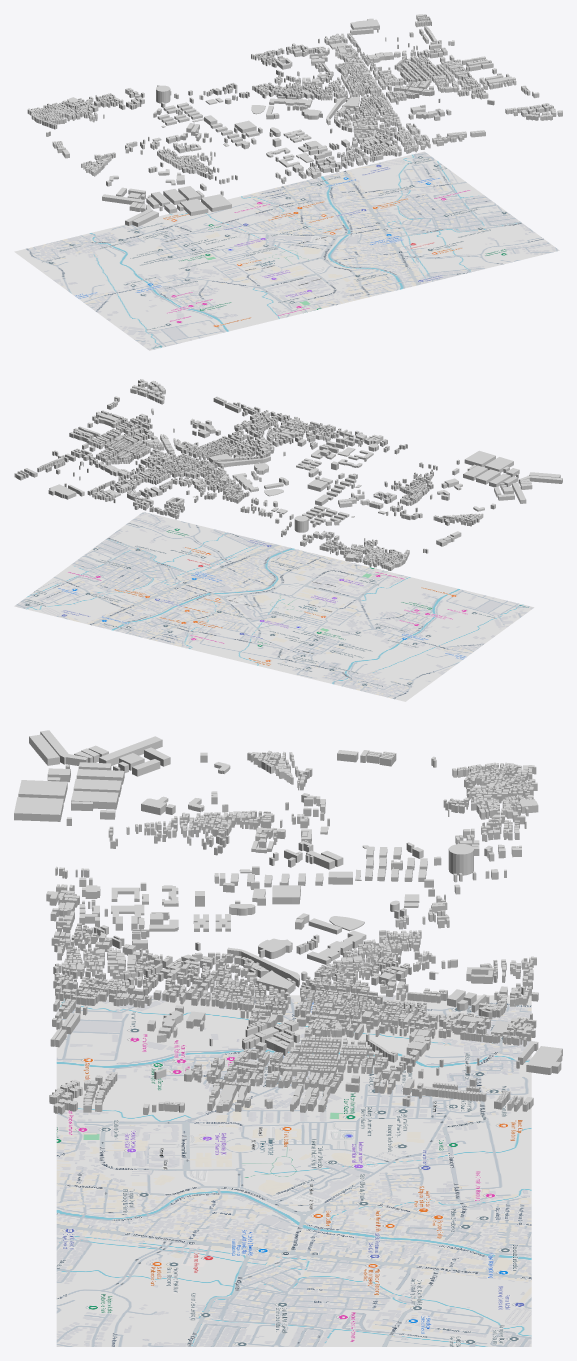
Rendered from tes_map.glb.
3 views of the same model, one above another, from view 1: azimuth 30°, elevation 25°; view 2: azimuth 150°, elevation 25°; view 3: azimuth 270°, elevation 25° (orthographic). The views are drawn at different scales.
Parts seen in each view (by area): view 1: EXPORT_GOOGLE_MAP_WM, Areas:building; view 2: EXPORT_GOOGLE_MAP_WM, Areas:building; view 3: EXPORT_GOOGLE_MAP_WM, Areas:building.
Boxes of the visible parts, bbox=[...] form: EXPORT_GOOGLE_MAP_WM: bbox=[14, 151, 559, 350]; Areas:building: bbox=[27, 14, 562, 226]; EXPORT_GOOGLE_MAP_WM: bbox=[14, 512, 534, 701]; Areas:building: bbox=[14, 379, 562, 570]; EXPORT_GOOGLE_MAP_WM: bbox=[56, 995, 531, 1346]; Areas:building: bbox=[14, 730, 562, 1114].
Bounding box in the file's own units: 2301 × 729 × 1413.
Materials: 1 (1 with a texture image).
